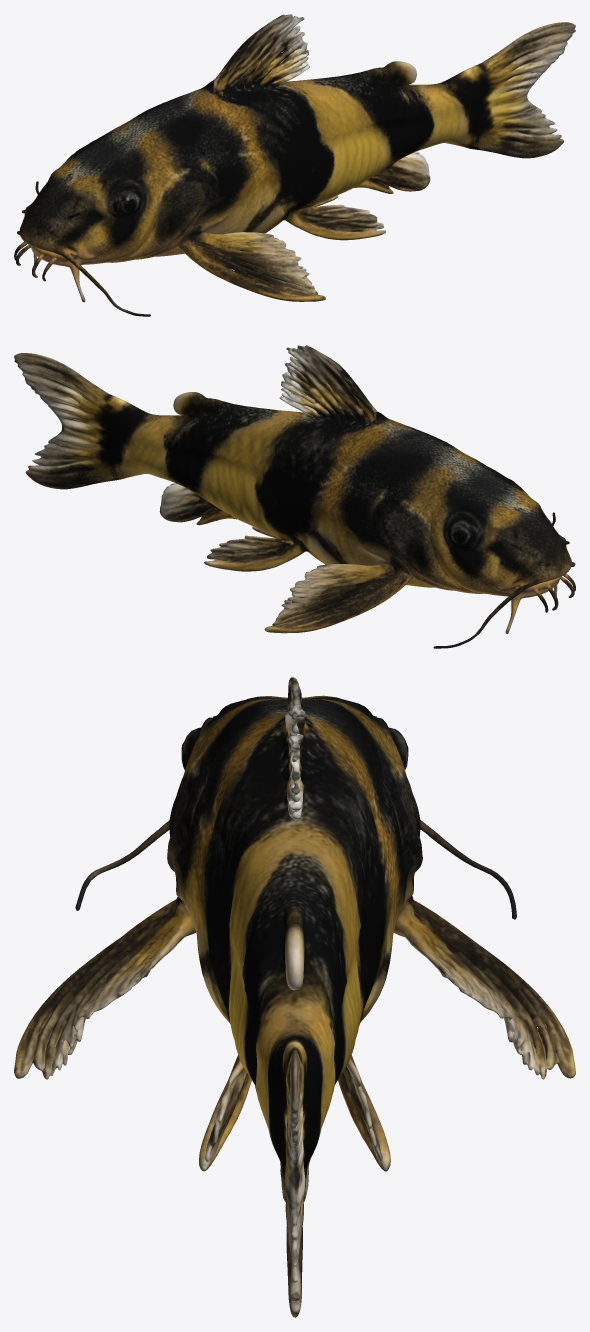
File: loach.glb
The picture shows the model from 3 angles, top to bottom: view 1: azimuth 30°, elevation 25°; view 2: azimuth 150°, elevation 25°; view 3: azimuth 270°, elevation 25°; orthographic projection. The views are drawn at different scales.
Parts seen in each view (by area): view 1: world; view 2: world; view 3: world.
Part boxes in pixels (x1,y1,x2,y2): world: [14, 14, 575, 316]; world: [14, 345, 575, 648]; world: [14, 677, 575, 1317].
Bounding box in the file's own units: 1 × 0.389 × 0.466.
Materials: 1 (1 with a texture image).
